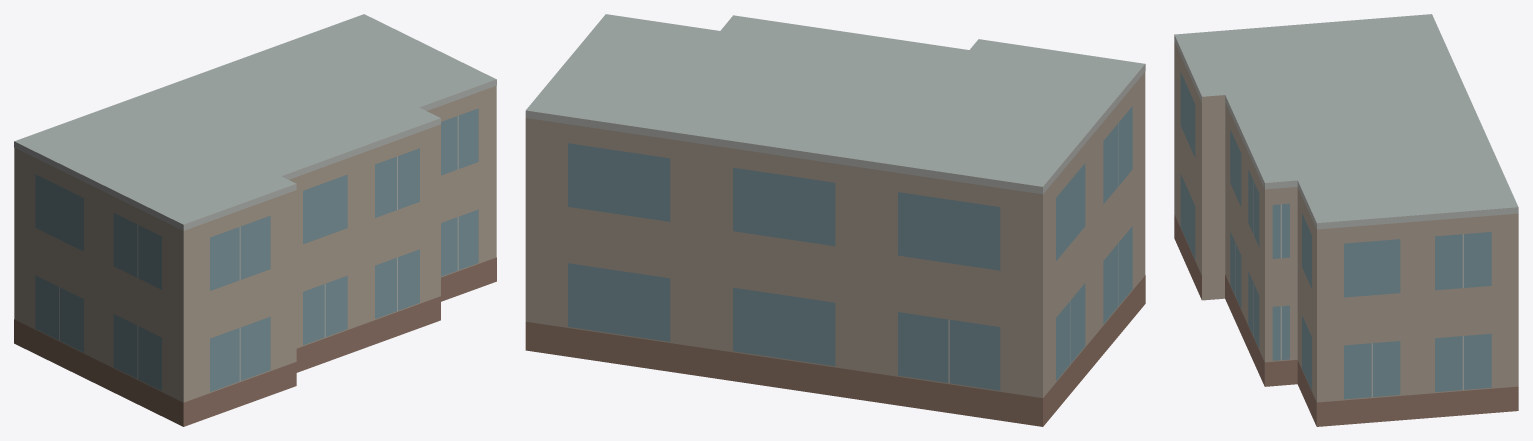
The model's file is survey-upis-32839491.glb.
3 renders of one model, left to right at view 1: azimuth 30°, elevation 25°; view 2: azimuth 150°, elevation 25°; view 3: azimuth 270°, elevation 25°, orthographic. The views are drawn at different scales.
Parts seen in each view (by area): view 1: survey-upis-32839491.tmp; view 2: survey-upis-32839491.tmp; view 3: survey-upis-32839491.tmp.
Part boxes in pixels (x1=…): survey-upis-32839491.tmp: x1=14, y1=14, x2=496, y2=426; survey-upis-32839491.tmp: x1=525, y1=14, x2=1145, y2=426; survey-upis-32839491.tmp: x1=1174, y1=14, x2=1518, y2=426.
Size of the model in its own units: 17.41 by 7.9 by 12.11.
